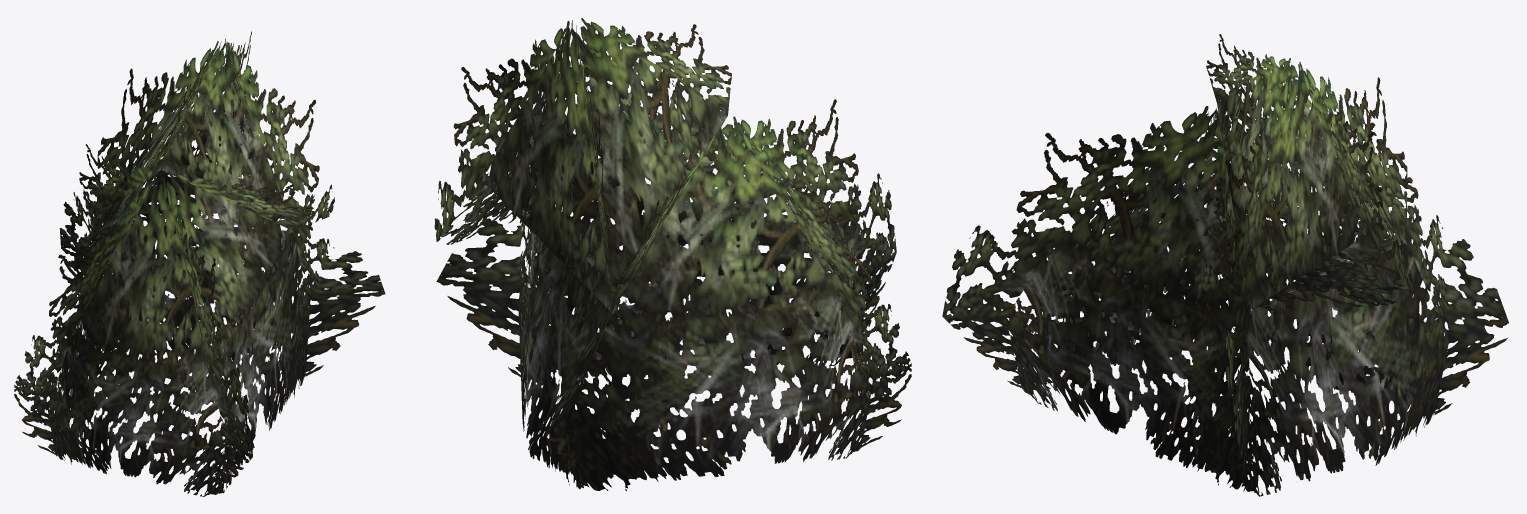
The model's file is duskwoodspookybush04.obj.
The picture shows the model from 3 angles, left to right: view 1: azimuth 30°, elevation 25°; view 2: azimuth 150°, elevation 25°; view 3: azimuth 270°, elevation 25°; orthographic projection. The views are drawn at different scales.
Bounding box in the file's own units: 5.1 × 4.38 × 5.56.
1 material, 1 textured.
